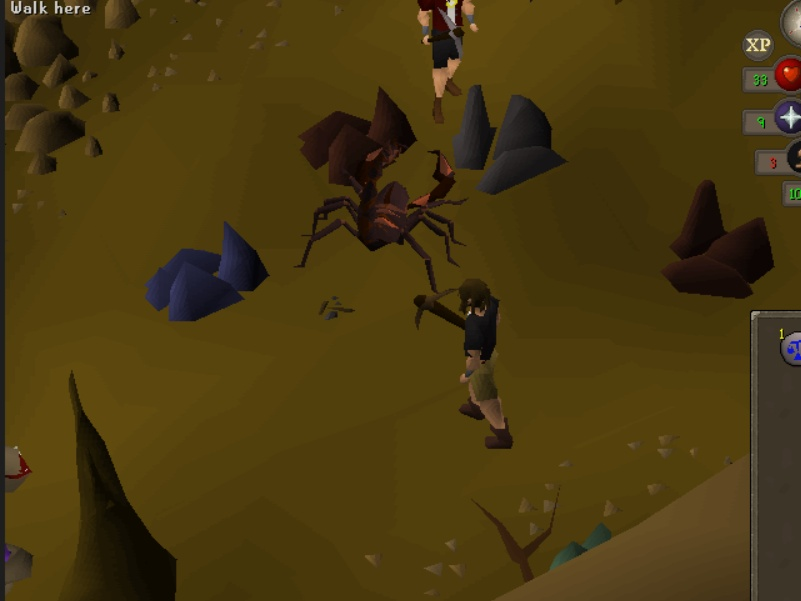iron: (662, 164, 779, 311), (286, 76, 429, 193)
mithril: (138, 211, 275, 330)
